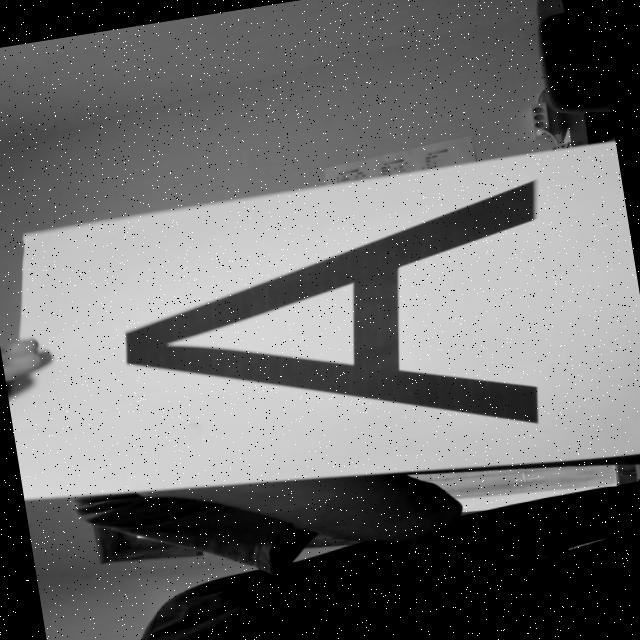a: (60, 163, 612, 504)
